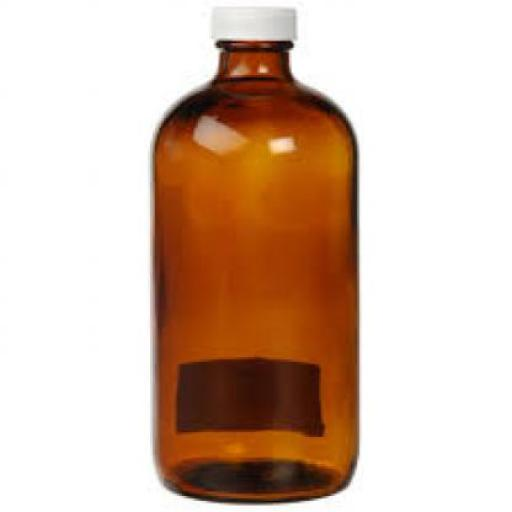glass: (148, 37, 355, 496)
plastic: (207, 4, 296, 39)
